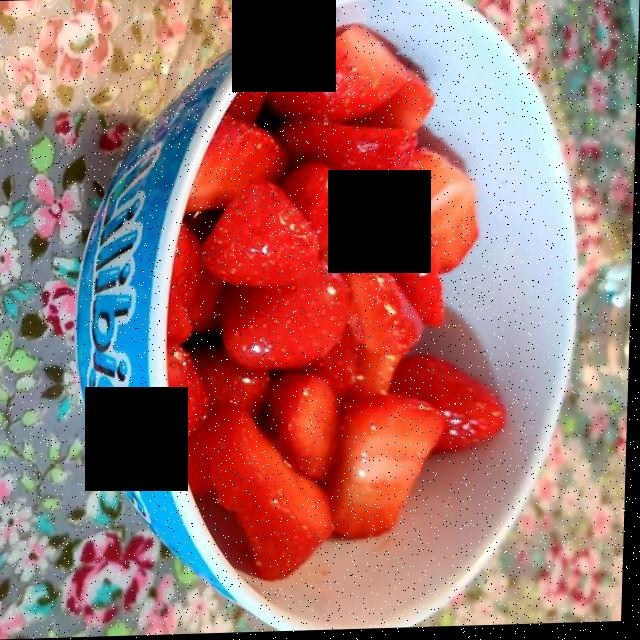strawberries: (176, 56, 474, 565)
